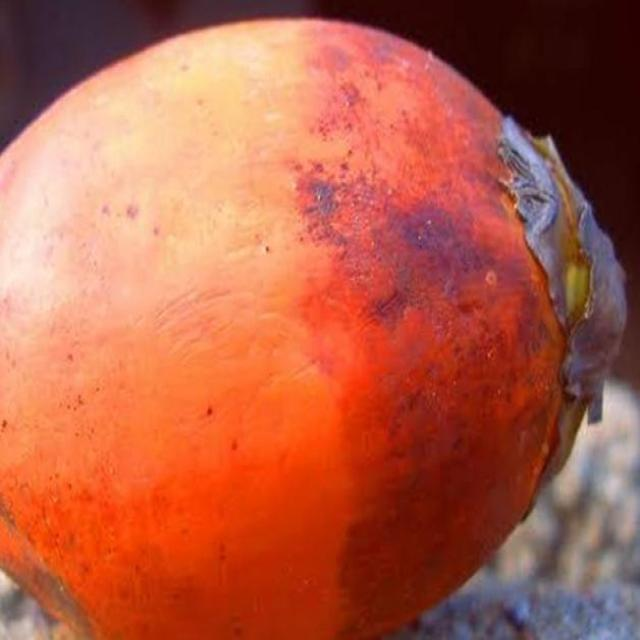good: (0, 18, 626, 639)
